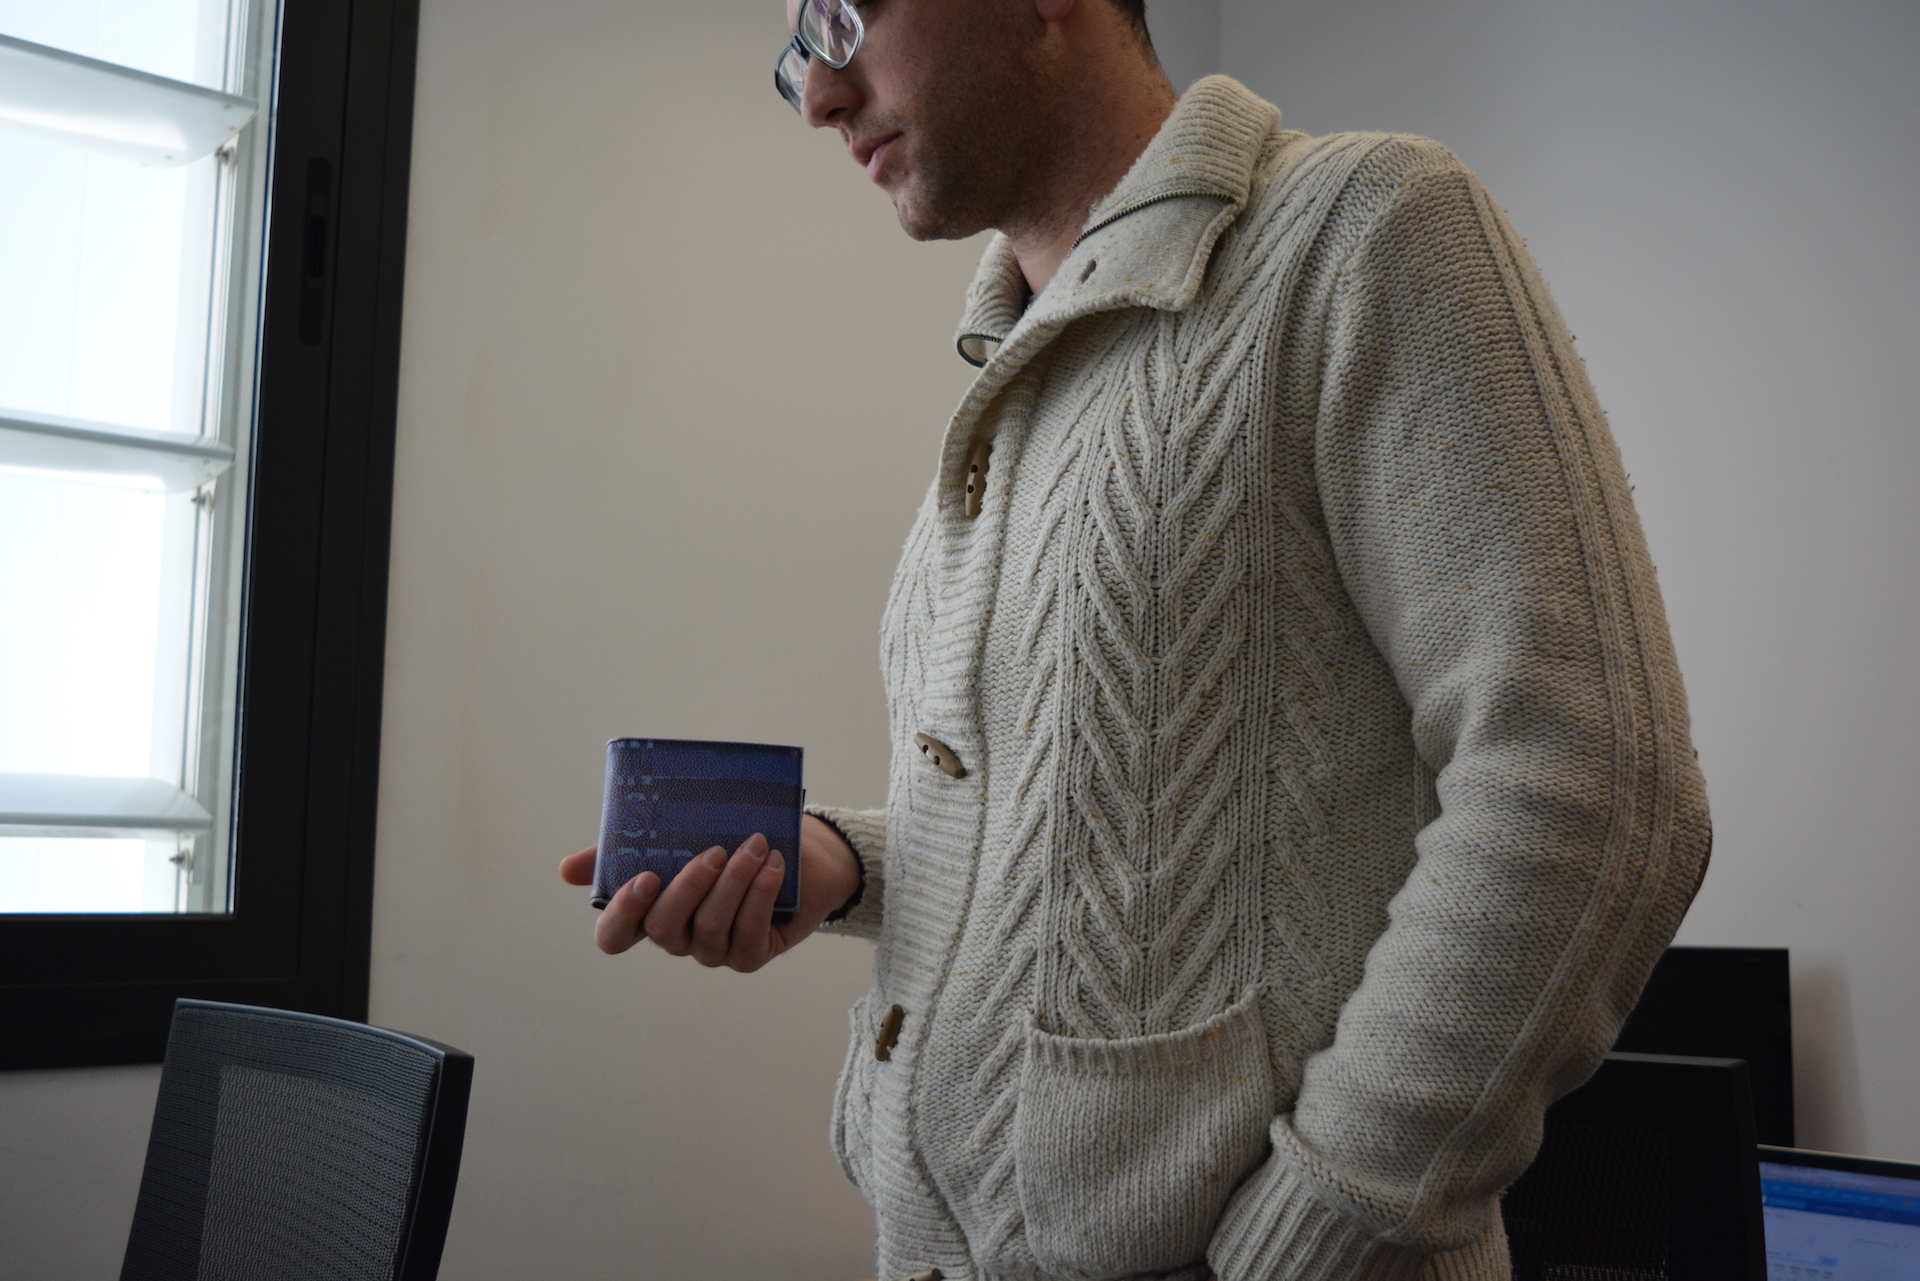monedero: (588, 733, 811, 929)
